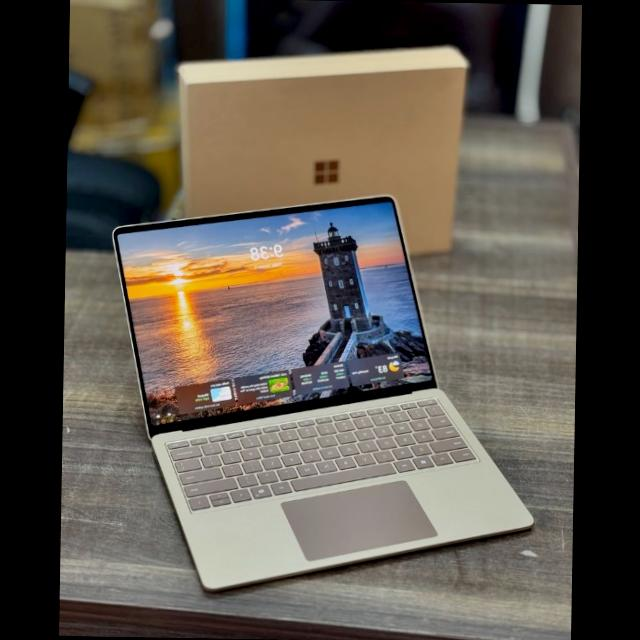laptop: (102, 190, 547, 598)
